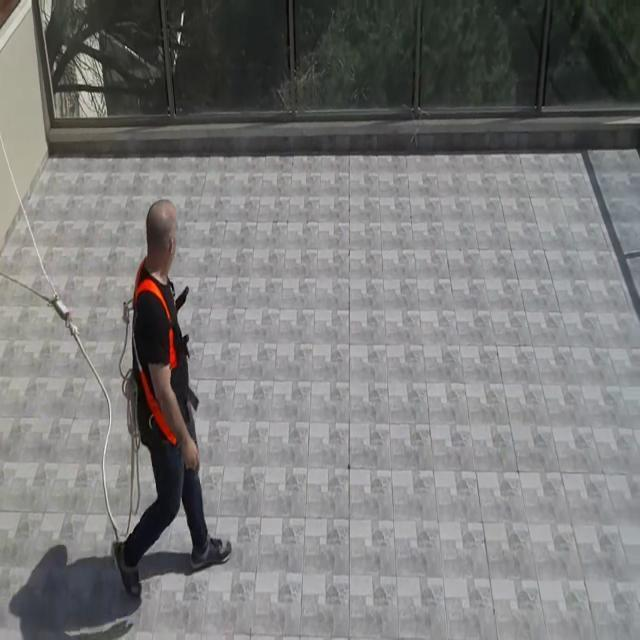Harness: (46, 296, 121, 542), (132, 276, 180, 446)
